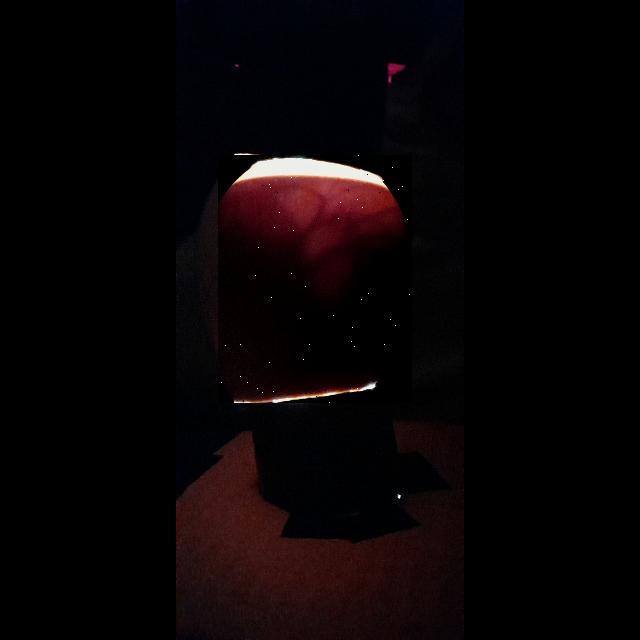Fertile: (218, 155, 412, 403)
